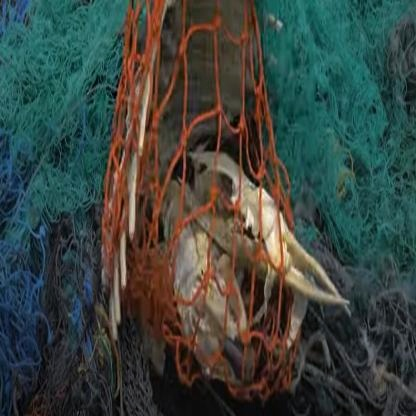net: (42, 61, 359, 392)
